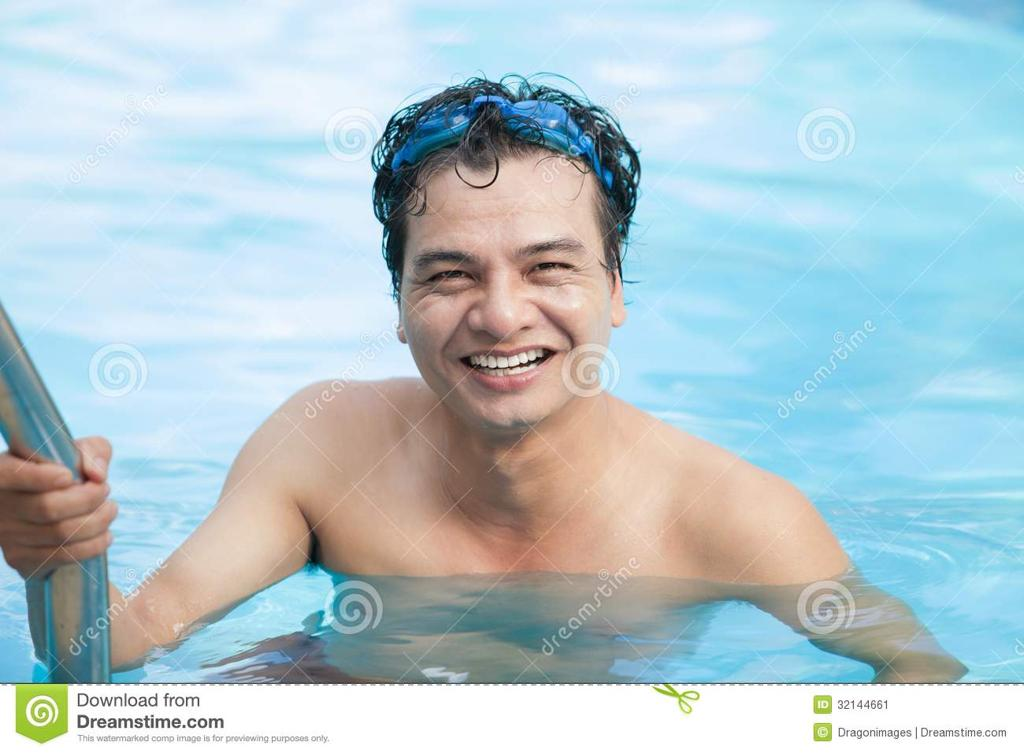face: (410, 186, 604, 418)
